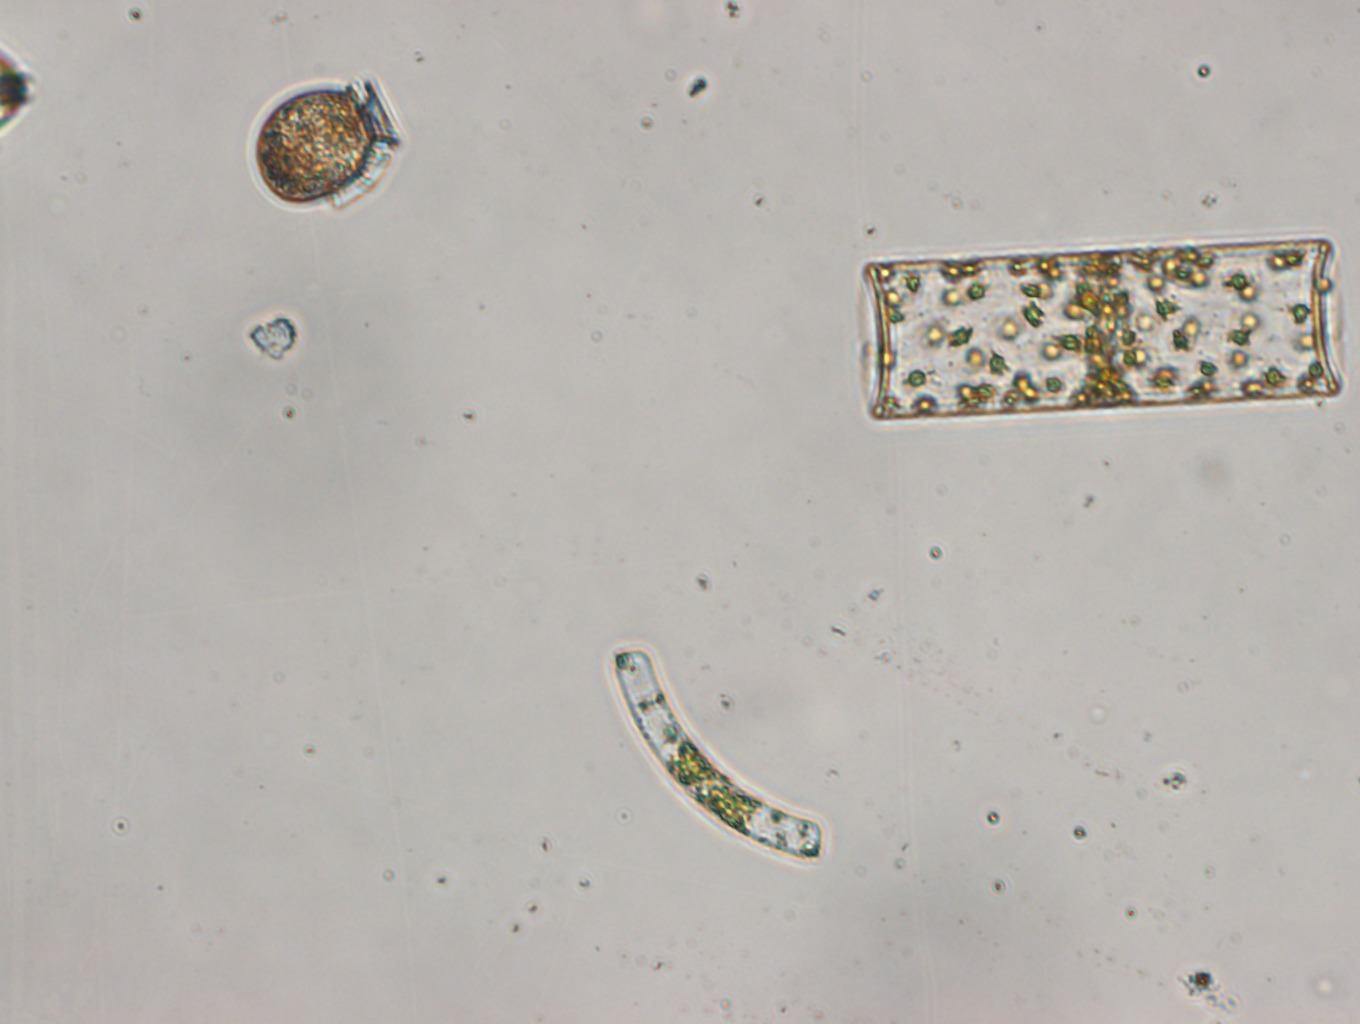guinardia flaccida: (857, 234, 1343, 423)
